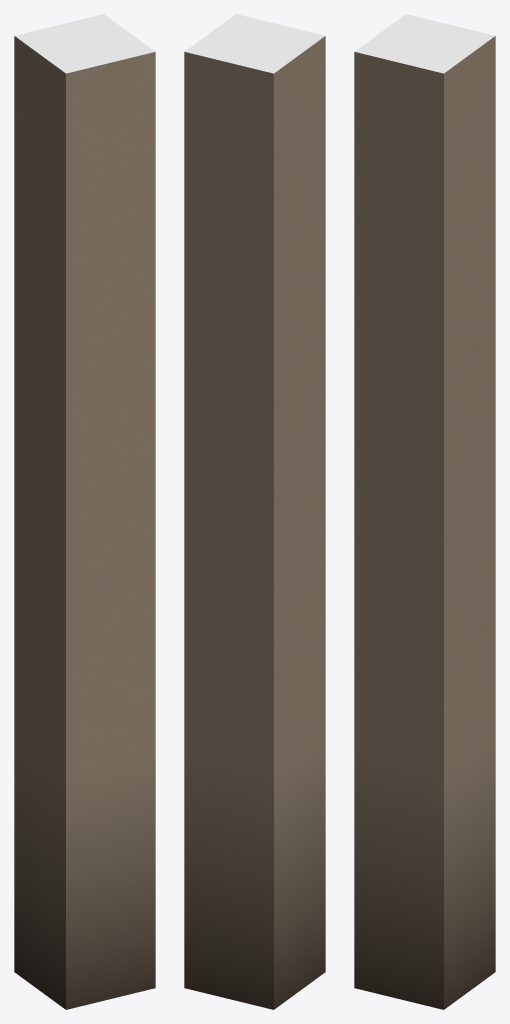
File: wall_inner_corner.glb
3 renders of one model, left to right at view 1: azimuth 30°, elevation 25°; view 2: azimuth 150°, elevation 25°; view 3: azimuth 330°, elevation 25°, orthographic.
Visible parts, largest first — view 1: wall_inner_corner-col; view 2: wall_inner_corner-col; view 3: wall_inner_corner-col.
Part boxes in pixels (x1,y1,x2,y2): wall_inner_corner-col: (14,14,155,1009); wall_inner_corner-col: (184,14,325,1009); wall_inner_corner-col: (354,14,495,1009).
Bounding box in the file's own units: 0.2 × 2 × 0.2.
Materials: 3 (2 with a texture image).
